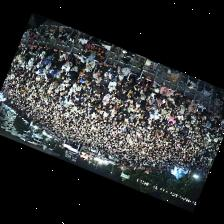person: (126, 63, 144, 84), (128, 78, 143, 98), (60, 55, 74, 73), (64, 65, 77, 81), (141, 75, 153, 91), (82, 80, 94, 96), (173, 91, 186, 105), (149, 106, 159, 123), (96, 62, 109, 75), (160, 86, 173, 98), (41, 53, 52, 67), (34, 49, 44, 64), (117, 66, 129, 78), (75, 54, 85, 68), (84, 58, 95, 70), (83, 67, 94, 79), (188, 100, 196, 116), (58, 48, 68, 60), (44, 46, 55, 56), (148, 91, 157, 103), (176, 103, 184, 116), (166, 93, 174, 106), (122, 81, 130, 94), (116, 75, 126, 85), (92, 84, 101, 95), (52, 76, 61, 87), (110, 64, 117, 78), (108, 78, 116, 90), (196, 101, 203, 114), (118, 94, 127, 104), (202, 108, 211, 118), (102, 93, 110, 104), (104, 67, 110, 81), (94, 70, 101, 82), (209, 109, 217, 119), (182, 105, 188, 118), (151, 83, 160, 91), (168, 115, 175, 125), (96, 79, 104, 87), (115, 85, 122, 94), (25, 43, 31, 52), (221, 118, 223, 128)
